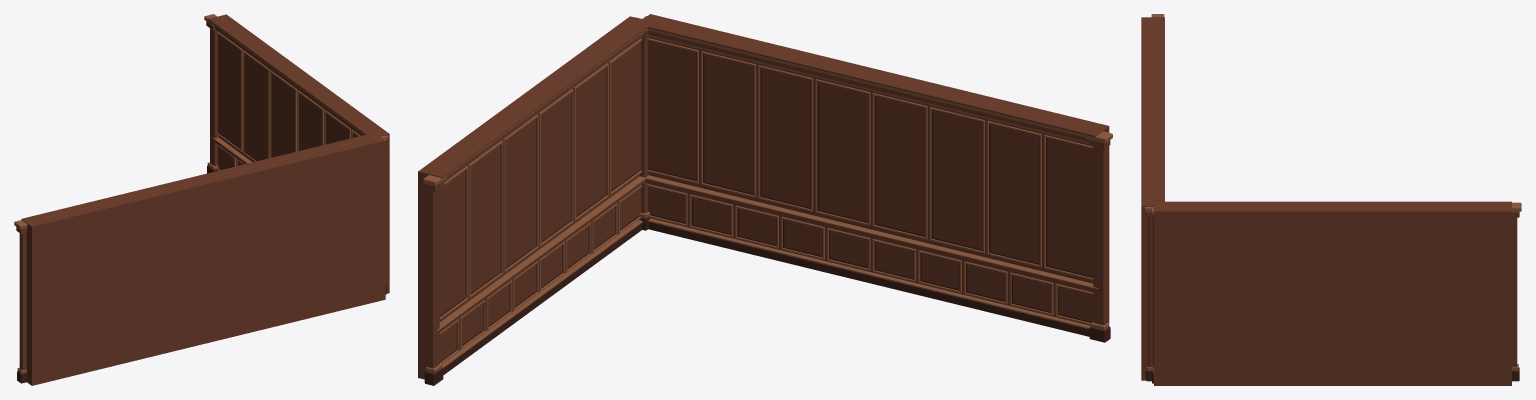
Rendered from living_hall_complete_shell.glb.
The picture shows the model from 3 angles, left to right: view 1: azimuth 30°, elevation 25°; view 2: azimuth 150°, elevation 25°; view 3: azimuth 270°, elevation 25°; orthographic projection. The views are drawn at different scales.
Parts seen in each view (by area): view 1: living_hall_front_Wall_Solid_00, living_hall_right_Wall_Solid_00, living_hall_right_Wall_UpperPanel_00_0_0_Field, living_hall_right_Wall_UpperPanel_00_0_1_Field, living_hall_front_Wall_Cornice_00_3_0, living_hall_right_Wall_UpperPanel_00_0_2_Field, living_hall_right_Wall_Cornice_00_3_0, living_hall_right_Wall_UpperPanel_00_0_3_Field, Pilaster_Shaft_009, Pilaster_Shaft_004, living_hall_right_Wall_UpperPanel_00_0_4_Field, living_hall_right_Wall_Cornice_00_1_0; view 2: living_hall_front_Wall_Solid_00, living_hall_front_Wall_UpperPanel_00_0_2_Field, living_hall_front_Wall_UpperPanel_00_0_3_Field, living_hall_front_Wall_UpperPanel_00_0_1_Field, living_hall_front_Wall_UpperPanel_00_0_6_Field, living_hall_front_Wall_UpperPanel_00_0_4_Field, living_hall_front_Wall_UpperPanel_00_0_5_Field, living_hall_front_Wall_UpperPanel_00_0_0_Field, living_hall_front_Wall_UpperPanel_00_0_7_Field, living_hall_right_Wall_Solid_00, living_hall_right_Wall_UpperPanel_00_0_1_Field, living_hall_right_Wall_UpperPanel_00_0_2_Field (+43 smaller); view 3: living_hall_right_Wall_Solid_00, living_hall_front_Wall_Solid_00, living_hall_right_Wall_Cornice_00_3_0, living_hall_front_Wall_Cornice_00_3_0, Pilaster_Shaft_004, Pilaster_Shaft_005.
Boxes of the visible parts, <box> form: living_hall_front_Wall_Solid_00: <box>26,136,385,385</box>; living_hall_right_Wall_Solid_00: <box>217,14,389,293</box>; living_hall_right_Wall_UpperPanel_00_0_0_Field: <box>218,34,240,148</box>; living_hall_right_Wall_UpperPanel_00_0_1_Field: <box>245,54,267,160</box>; living_hall_front_Wall_Cornice_00_3_0: <box>21,132,379,222</box>; living_hall_right_Wall_UpperPanel_00_0_2_Field: <box>272,74,295,157</box>; living_hall_right_Wall_Cornice_00_3_0: <box>208,16,374,134</box>; living_hall_right_Wall_UpperPanel_00_0_3_Field: <box>299,93,322,150</box>; Pilaster_Shaft_009: <box>19,233,26,370</box>; Pilaster_Shaft_004: <box>210,28,218,166</box>; living_hall_right_Wall_UpperPanel_00_0_4_Field: <box>326,113,349,144</box>; living_hall_right_Wall_Cornice_00_1_0: <box>215,26,363,135</box>; living_hall_front_Wall_Solid_00: <box>643,14,1109,325</box>; living_hall_front_Wall_UpperPanel_00_0_2_Field: <box>761,69,810,207</box>; living_hall_front_Wall_UpperPanel_00_0_3_Field: <box>818,83,867,221</box>; living_hall_front_Wall_UpperPanel_00_0_1_Field: <box>704,55,753,193</box>; living_hall_front_Wall_UpperPanel_00_0_6_Field: <box>990,124,1038,263</box>; living_hall_front_Wall_UpperPanel_00_0_4_Field: <box>876,97,924,235</box>; living_hall_front_Wall_UpperPanel_00_0_5_Field: <box>933,110,981,249</box>; living_hall_front_Wall_UpperPanel_00_0_0_Field: <box>648,41,695,179</box>; living_hall_front_Wall_UpperPanel_00_0_7_Field: <box>1047,138,1093,276</box>; living_hall_right_Wall_Solid_00: <box>418,16,642,379</box>; living_hall_right_Wall_UpperPanel_00_0_1_Field: <box>470,145,500,293</box>; living_hall_right_Wall_UpperPanel_00_0_2_Field: <box>505,119,535,267</box>; living_hall_right_Wall_Solid_00: <box>1154,206,1511,385</box>; living_hall_front_Wall_Solid_00: <box>1141,17,1153,380</box>; living_hall_right_Wall_Cornice_00_3_0: <box>1154,201,1511,206</box>; living_hall_front_Wall_Cornice_00_3_0: <box>1154,17,1164,205</box>; Pilaster_Shaft_004: <box>1512,217,1517,367</box>; Pilaster_Shaft_005: <box>1148,217,1153,367</box>.
Bounding box in the file's own units: 10.5 × 4.31 × 8.5.
